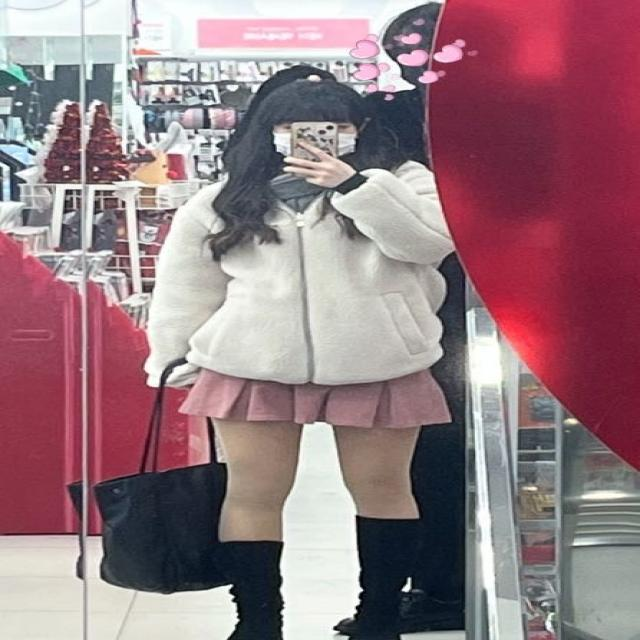skirt: (182, 364, 453, 430)
zipup: (142, 155, 458, 389)
